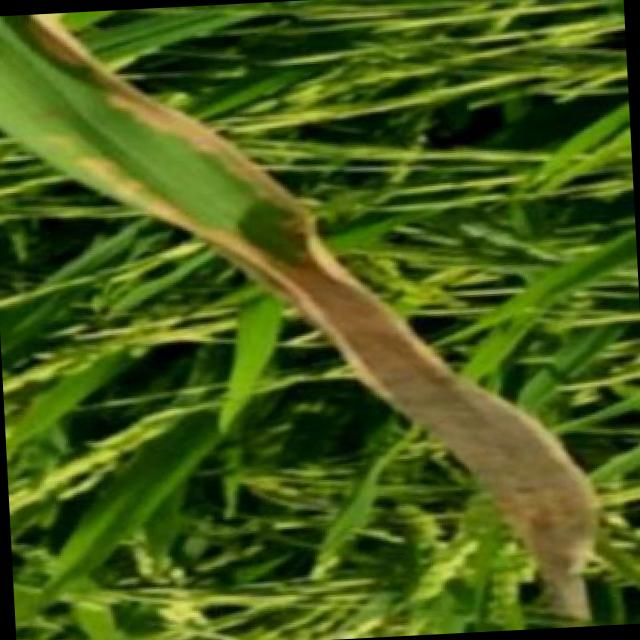Rice_Bacterial_Blight: (118, 79, 324, 338)
